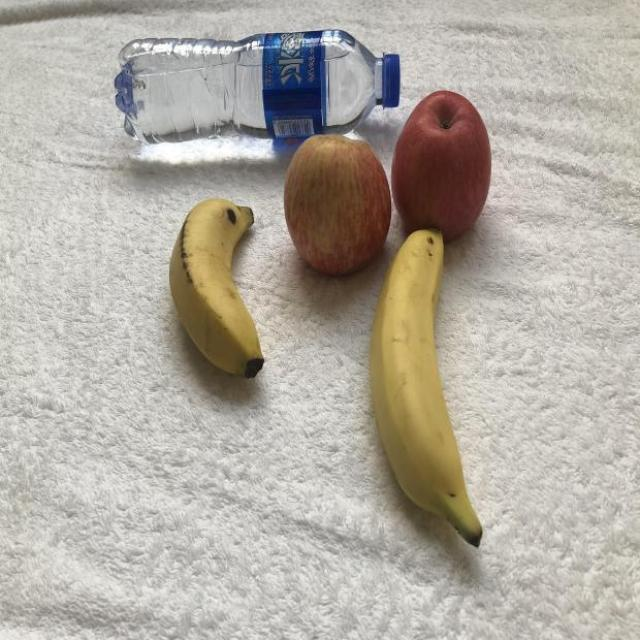Apple: (275, 119, 392, 287), (387, 81, 495, 253)
Banana: (362, 223, 491, 553), (166, 187, 266, 387)
